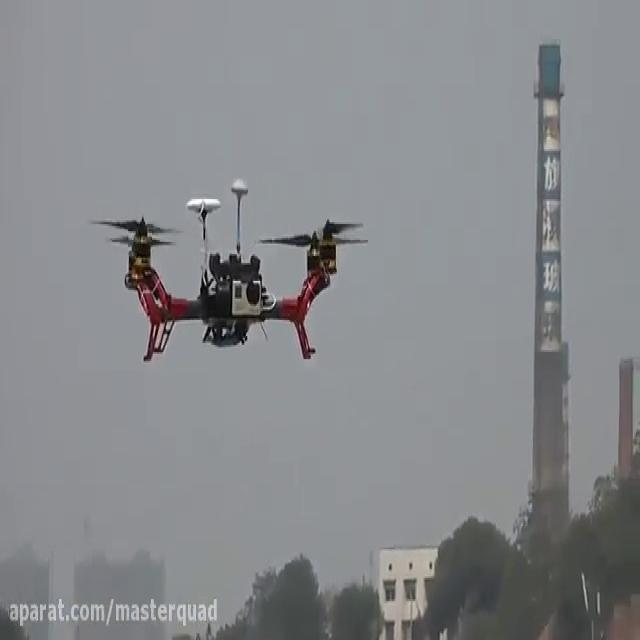drone: (88, 175, 370, 365)
